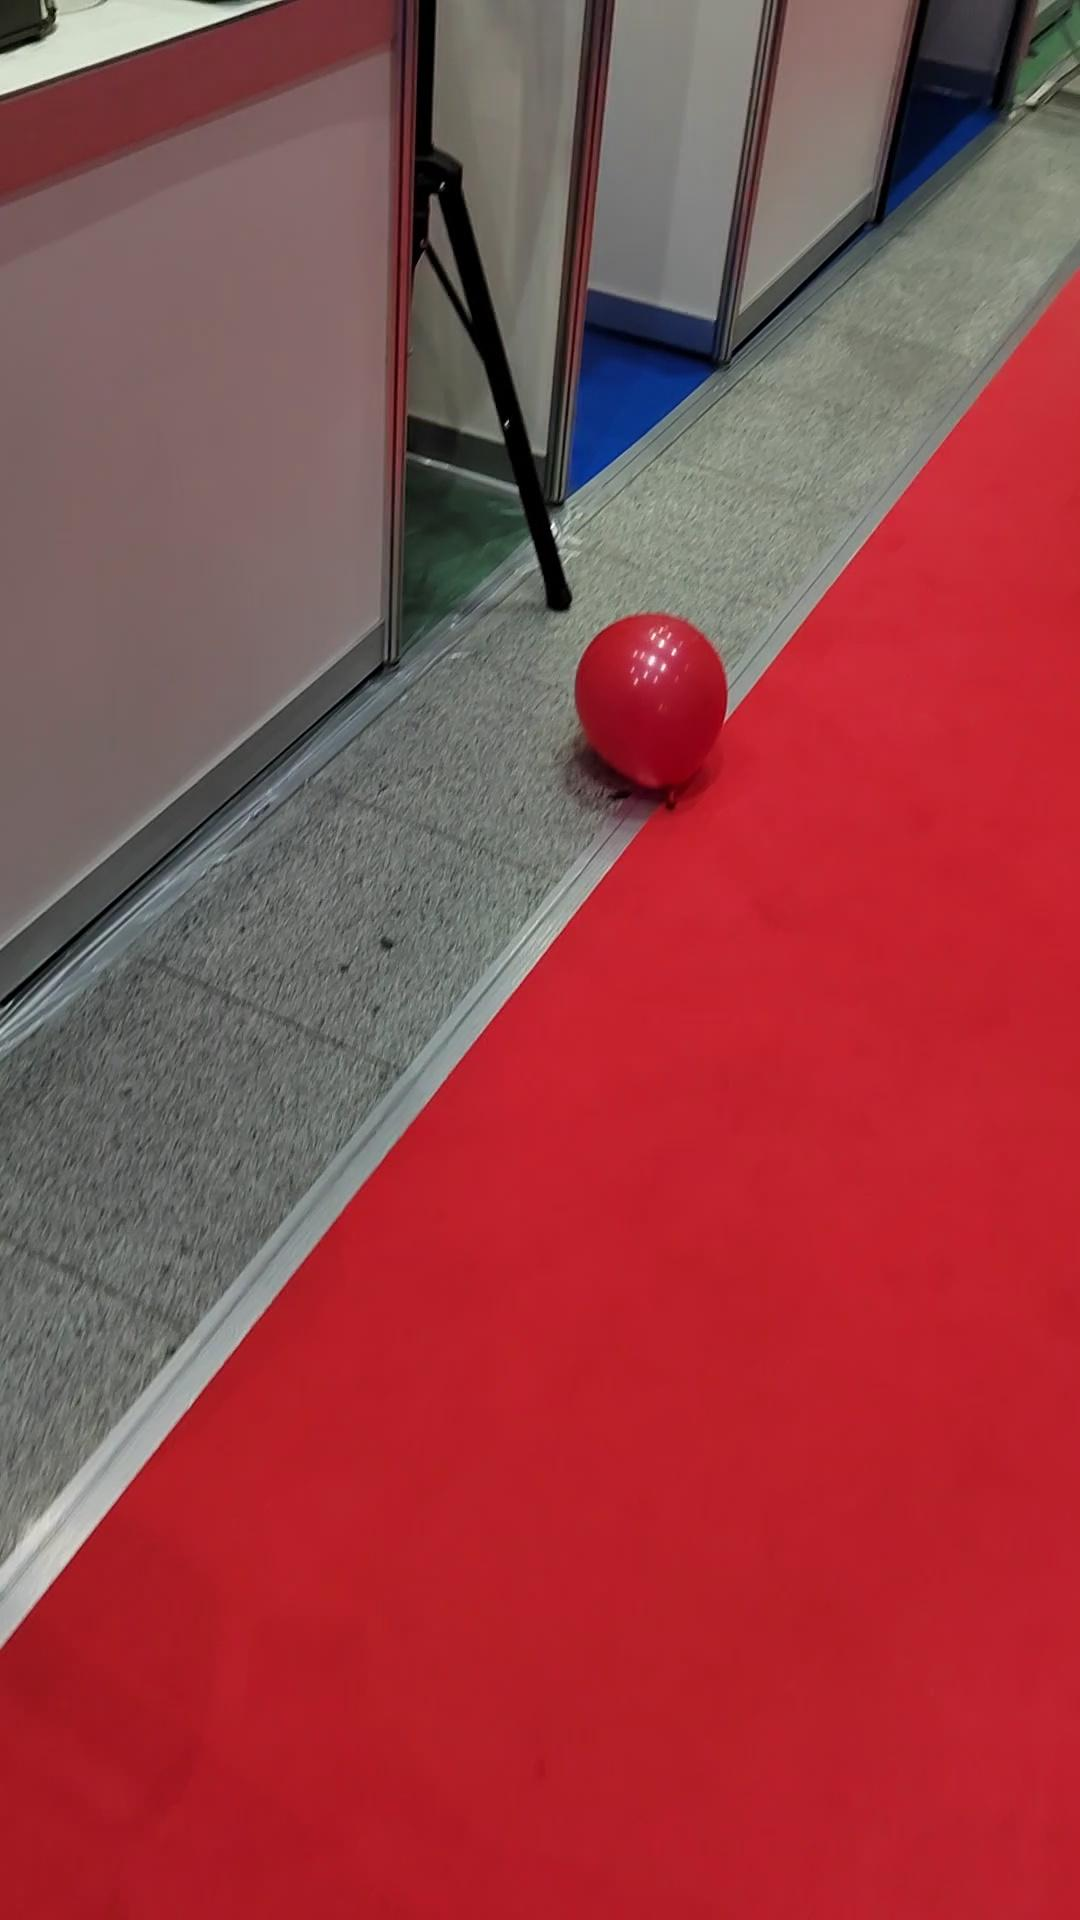red: (574, 612, 731, 793)
